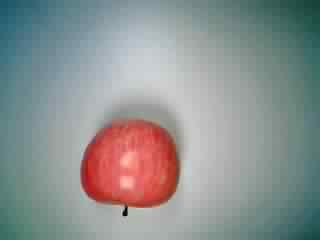apple: (78, 114, 182, 218)
